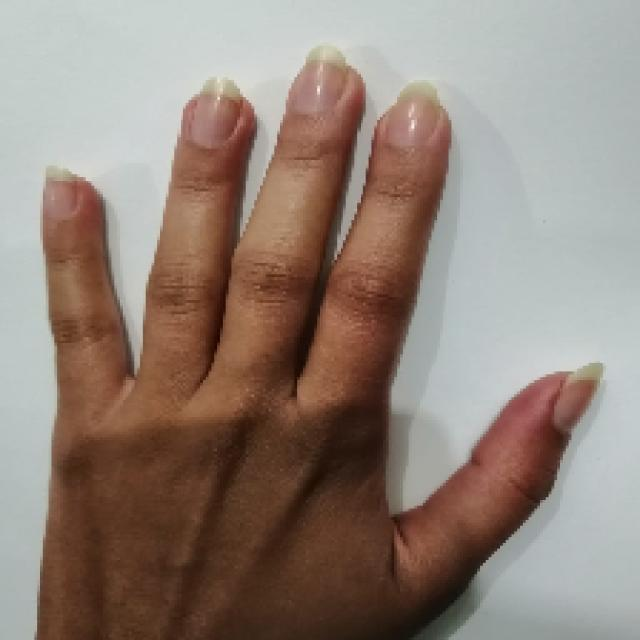Nail: (291, 46, 348, 115), (552, 362, 604, 434), (190, 78, 241, 148), (388, 81, 442, 147), (44, 166, 76, 221)
